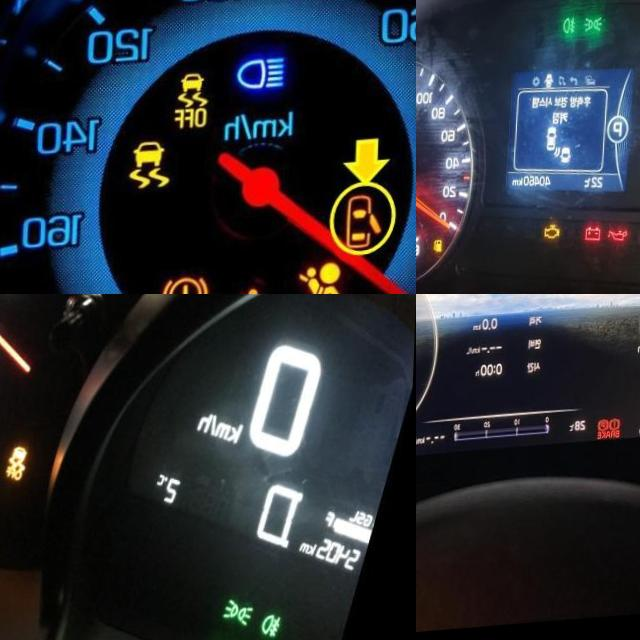FrontFogLight: (266, 619, 288, 640), (565, 20, 578, 41)
Low fuel level: (438, 241, 447, 257)
SideLamp: (227, 603, 261, 635), (586, 21, 606, 38)
